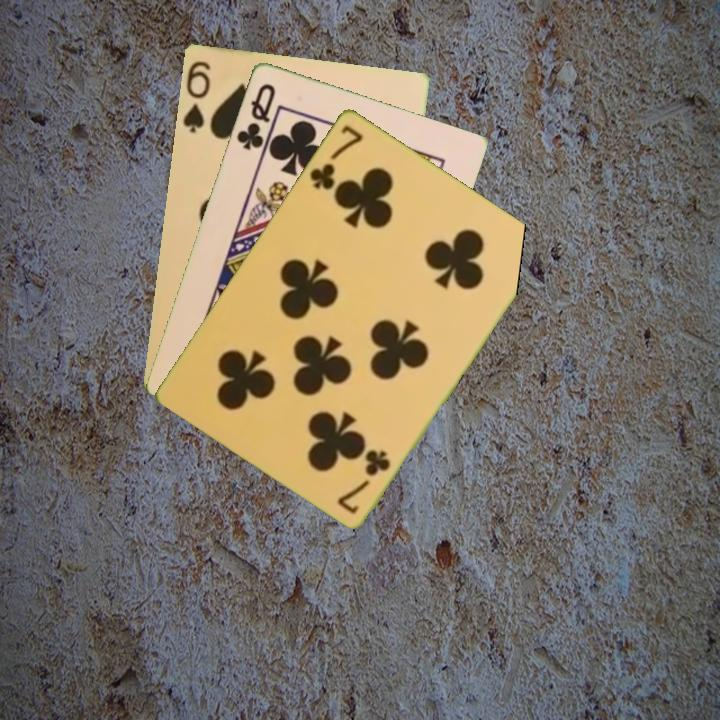6s: (178, 57, 213, 135)
7c: (305, 120, 366, 193), (333, 445, 394, 516)
Qc: (232, 79, 278, 153)
